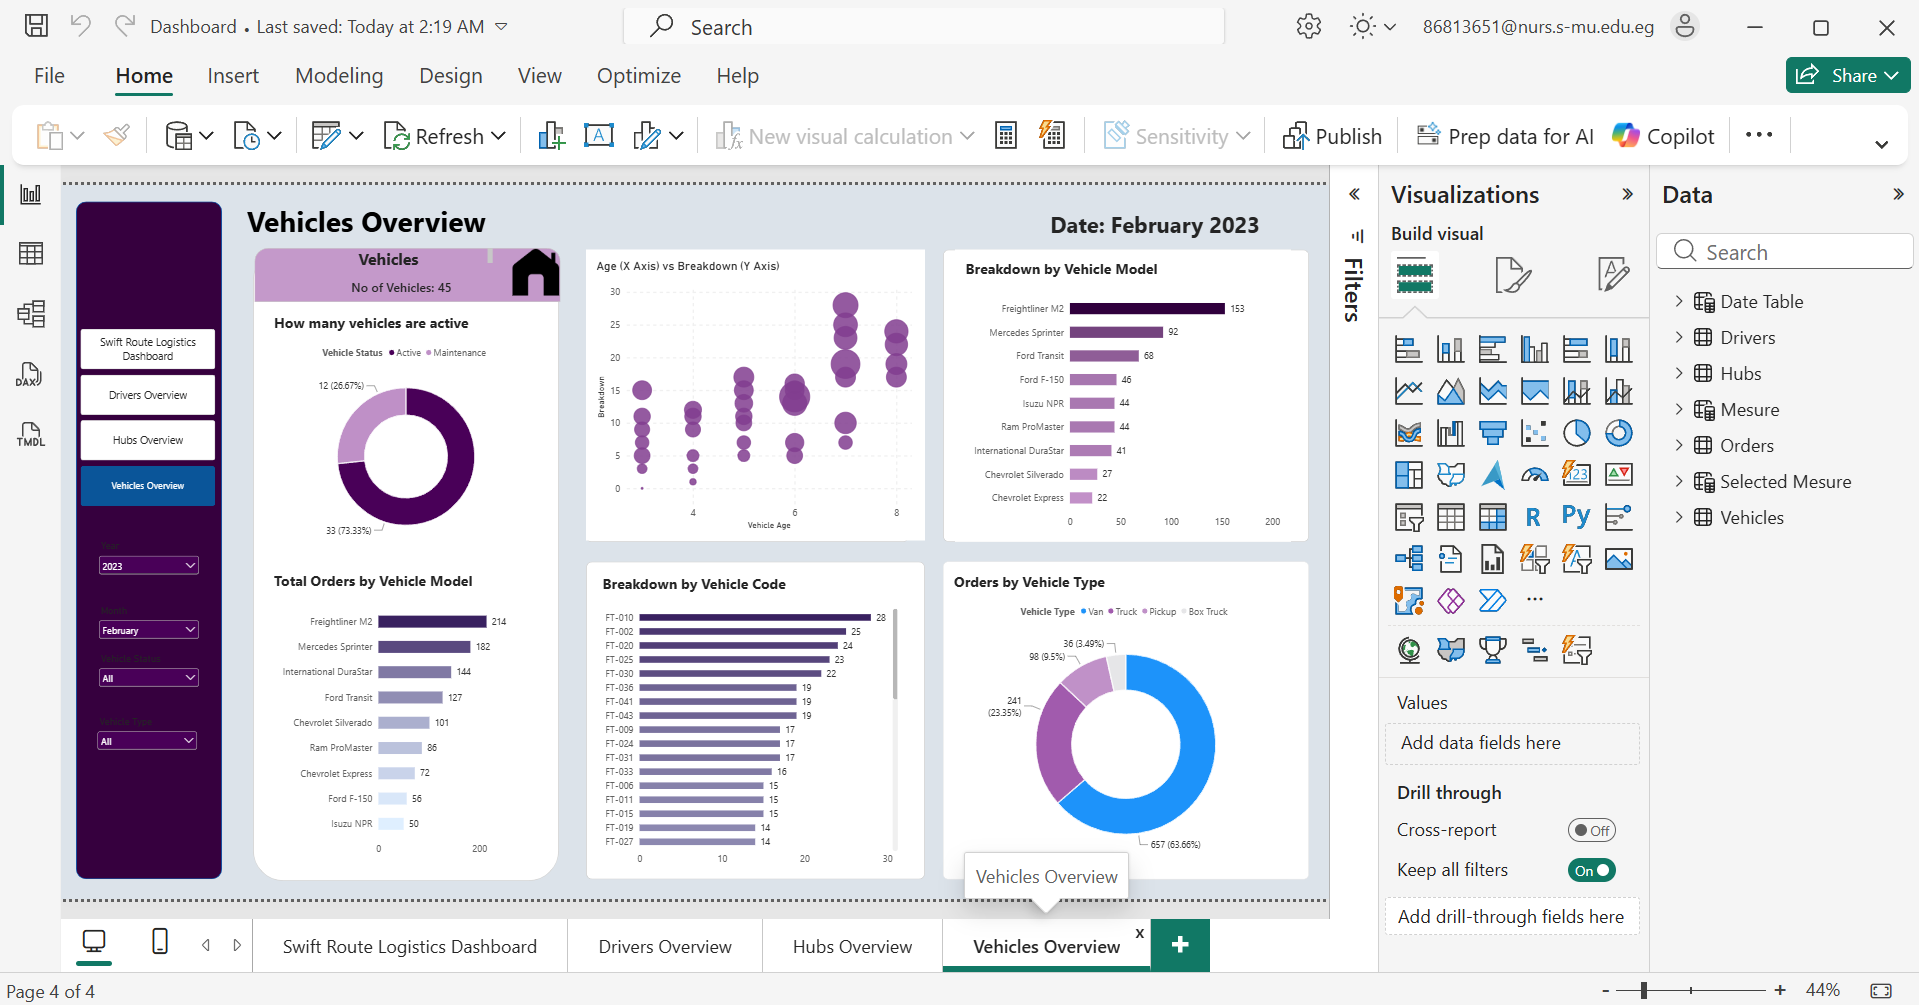

The dashboard page shown, as its layout file describes it:
{"tool":"powerbi","page":{"name":"Vehicles Overview","canvas":[1920,1080],"ordinal":3},"visuals":[{"type":"shape","box":[22.7,25.5,221.1,1026.1],"z":0},{"type":"textbox","box":[281.6,25,549.7,56.8],"z":1000},{"type":"slicer","fields":{"Values":["Date Table.Year"]},"box":[52.2,538.3,161.6,90.7],"z":2000},{"type":"slicer","fields":{"Values":["Date Table.Month"]},"box":[52.2,636,161.6,73.7],"z":3000},{"type":"cardVisual","fields":{"Data":["Orders.Year Month Title"]},"box":[1423,36.9,465.6,45.4],"z":4000},{"type":"shape","box":[795,131.7,488.3,408.8],"z":5000},{"type":"shape","box":[290.7,97.7,463.3,956.2],"z":6000},{"type":"shape","box":[292,96.4,463.3,81.8],"z":7000},{"type":"cardVisual","fields":{"Data":["Vehicles.No of Vehicles"]},"box":[377,130.4,277.8,48.2],"z":8000},{"type":"textbox","box":[345.8,96.4,309,34],"z":9000},{"type":"donutChart","title":"How many vehicles are active","fields":{"Category":["Vehicles.Vehicle Status"],"Y":["CountNonNull(Vehicles.Vehicle ID)"]},"box":[306.6,179.4,431.5,390.7],"z":10000},{"type":"barChart","fields":{"Category":["Vehicles.Vehicle Model"],"Y":["Orders.Total Orders"]},"box":[306.6,570.1,431.5,465.6],"z":11000},{"type":"shape","box":[1374.1,642.8,488.3,408.8],"z":12000},{"type":"shape","box":[795,570.1,513.3,481.5],"z":13000},{"type":"shape","box":[1335.5,97.7,554.2,442.9],"z":14000},{"type":"scatterChart","title":"Age (X Axis) vs Breakdown (Y Axis)","fields":{"Size":["Sum(Vehicles.Breakdown)1"],"X":["Vehicles.Vehicle Age"],"Y":["Vehicles.Breakdown"]},"box":[795,97.7,513.3,440.6],"z":15000},{"type":"barChart","title":"Breakdown by Vehicle Code","fields":{"Category":["Vehicles.Vehicle Code"],"Y":["Sum(Vehicles.Breakdown)"]},"box":[804,574.6,479.2,477],"z":16000},{"type":"barChart","title":"Breakdown by Vehicle Model","fields":{"Category":["Vehicles.Vehicle Model"],"Y":["Sum(Vehicles.Breakdown)"]},"box":[1353.7,97.7,508.8,442.9],"z":17000},{"type":"donutChart","title":"Orders  by Vehicle Type","fields":{"Category":["Orders.Vehicle Type"],"Y":["Orders.Total Orders"]},"box":[1335.5,570.1,554.2,481.5],"z":18000},{"type":"pageNavigator","box":[29.5,218,204.4,270.3],"z":19000},{"type":"slicer","fields":{"Values":["Vehicles.Vehicle Status"]},"box":[52.2,708.6,161.6,73.7],"z":20000},{"type":"slicer","fields":{"Values":["Orders.Vehicle Type"]},"box":[50,804,161.3,81.8],"z":21000},{"type":"image","box":[683.2,96.4,70.9,73.7],"z":22000}]}

Visuals, with their boxes on the page's 1920x1080 design canvas (x1, y1, x2, y2). These are canvas units, not pixel positions in the 1919x1005 screenshot, which may show the page scaled, cropped or inside an application window:
shape: (left=23, top=26, right=244, bottom=1052)
textbox: (left=282, top=25, right=831, bottom=82)
slicer - Date Table.Year: (left=52, top=538, right=214, bottom=629)
slicer - Date Table.Month: (left=52, top=636, right=214, bottom=710)
cardVisual - Orders.Year Month Title: (left=1423, top=37, right=1889, bottom=82)
shape: (left=795, top=132, right=1283, bottom=540)
shape: (left=291, top=98, right=754, bottom=1054)
shape: (left=292, top=96, right=755, bottom=178)
cardVisual - Vehicles.No of Vehicles: (left=377, top=130, right=655, bottom=179)
textbox: (left=346, top=96, right=655, bottom=130)
"How many vehicles are active" donutChart: (left=307, top=179, right=738, bottom=570)
barChart - Vehicles.Vehicle Model x Orders.Total Orders: (left=307, top=570, right=738, bottom=1036)
shape: (left=1374, top=643, right=1862, bottom=1052)
shape: (left=795, top=570, right=1308, bottom=1052)
shape: (left=1336, top=98, right=1890, bottom=541)
"Age (X Axis) vs Breakdown (Y Axis)" scatterChart: (left=795, top=98, right=1308, bottom=538)
"Breakdown by Vehicle Code" barChart: (left=804, top=575, right=1283, bottom=1052)
"Breakdown by Vehicle Model" barChart: (left=1354, top=98, right=1862, bottom=541)
"Orders  by Vehicle Type" donutChart: (left=1336, top=570, right=1890, bottom=1052)
pageNavigator: (left=30, top=218, right=234, bottom=488)
slicer - Vehicles.Vehicle Status: (left=52, top=709, right=214, bottom=782)
slicer - Orders.Vehicle Type: (left=50, top=804, right=211, bottom=886)
image: (left=683, top=96, right=754, bottom=170)
